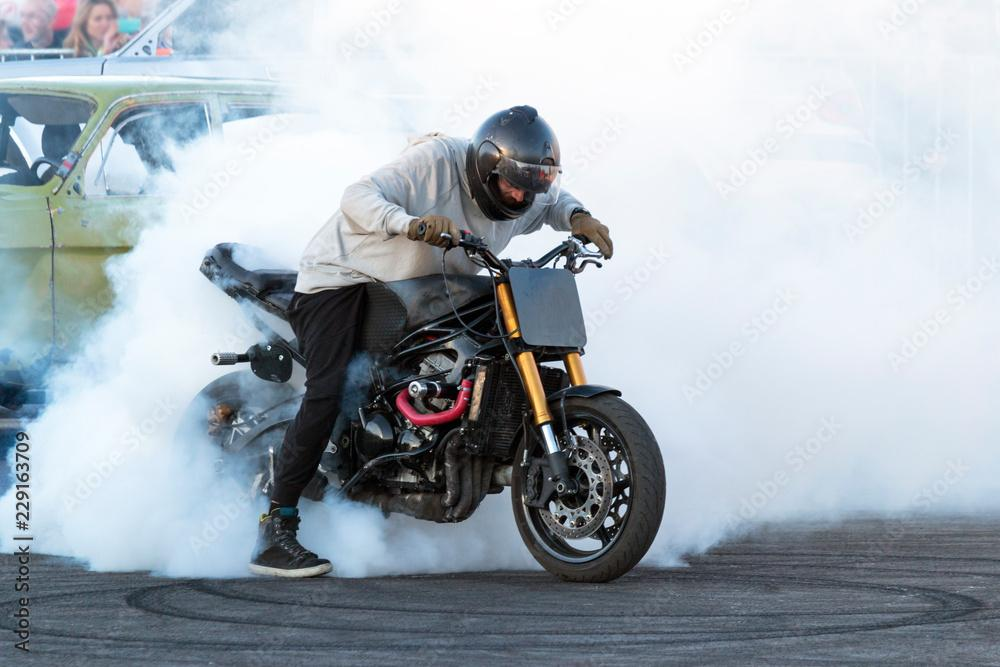helmet: (465, 104, 563, 222)
